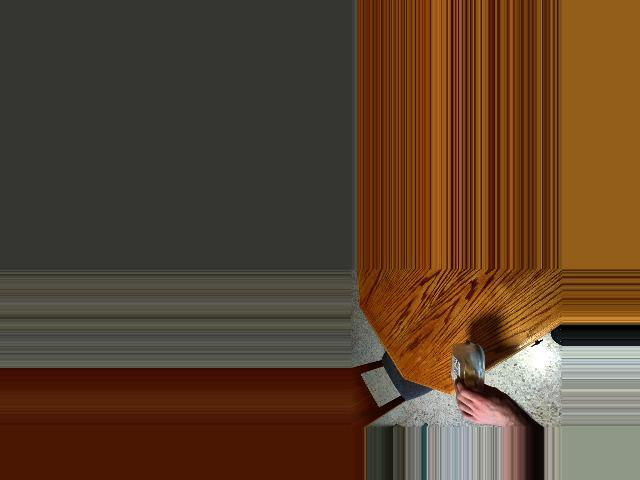cheese: (441, 346, 496, 411)
